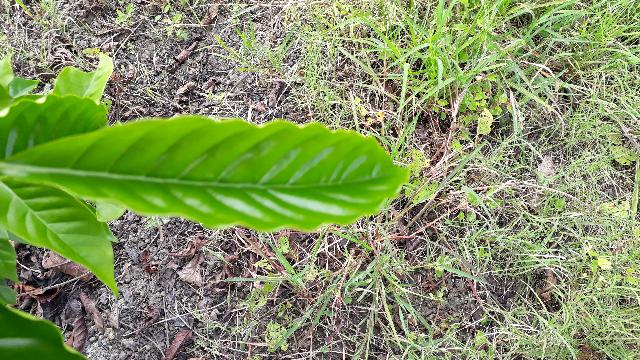healthy: (4, 110, 427, 236)
